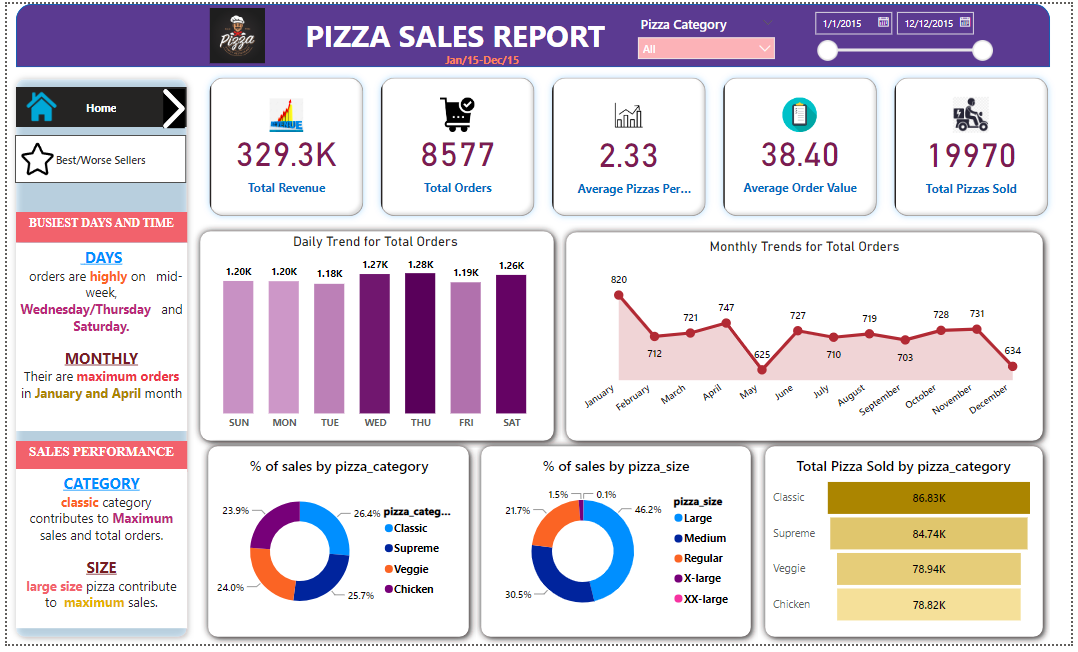

This screenshot's page, from the dashboard's own definition file:
{"tool":"powerbi","page":{"name":"Home","canvas":[1330,800],"ordinal":0},"visuals":[{"type":"cardVisual","fields":{"Data":["Measure Table.Total Revenue","Measure Table.Total Orders","Measure Table.Average Pizzas Per Order","Measure Table.Average Order Value","Measure Table.Total Pizzas Sold"]},"box":[236.2,75,1082.5,205],"z":0},{"type":"shape","box":[11.1,0,1292.6,79],"z":1000},{"type":"textbox","box":[256,9,546,66],"z":2000},{"type":"textbox","box":[530,55.7,127.1,38.6],"z":3000},{"type":"image","box":[242.9,0,91.4,78.6],"z":4000},{"type":"shape","box":[2.5,85.2,230.9,714.8],"z":5000},{"type":"shape","box":[232.5,275,460,280],"z":6000},{"type":"columnChart","title":"Daily Trend for Total Orders ","fields":{"Y":["Measure Table.Total Orders"],"Category":["pizza_sales.Order Day"]},"box":[242,286.4,435.8,255.6],"z":7000},{"type":"shape","box":[690.1,276.5,613.6,279],"z":8000},{"type":"shape","box":[242.5,543.8,343.8,256.2],"z":9000},{"type":"shape","box":[583.8,543.8,355,256.2],"z":10000},{"type":"shape","box":[938.8,543.8,365,256.2],"z":11000},{"type":"areaChart","title":"Monthly Trends for Total Orders","fields":{"Category":["pizza_sales.Month Name"],"Y":["Measure Table.Total Orders"]},"box":[318,438,566,243],"z":12000},{"type":"donutChart","title":"% of sales by pizza_category","fields":{"Category":["pizza_sales.pizza_category"],"Y":["Measure Table.Total Revenue"]},"box":[256.2,565,317.5,215],"z":13000},{"type":"donutChart","title":"% of sales by pizza_size","fields":{"Y":["Measure Table.Total Revenue"],"Category":["pizza_sales.pizza_size"]},"box":[601.2,565,320,215],"z":14000},{"type":"funnel","title":"Total Pizza Sold by pizza_category","fields":{"Category":["pizza_sales.pizza_category"],"Y":["Measure Table.Total Revenue"]},"box":[952.5,565,336.2,215],"z":15000},{"type":"textbox","box":[11.1,260.5,213.6,38.3],"z":16000},{"type":"textbox","box":[11.1,298.8,213.6,234.6],"z":17000},{"type":"textbox","box":[11.1,545.7,213.6,38.3],"z":18000},{"type":"textbox","box":[11.1,581.5,213.6,198.8],"z":19000},{"type":"slicer","fields":{"Values":["pizza_sales.pizza_category"]},"box":[779,8.6,191.4,66.7],"z":20000},{"type":"slicer","fields":{"Values":["pizza_sales.order_date"]},"box":[997.5,0,243.2,85.2],"z":21000},{"type":"pageNavigator","box":[11.2,103.8,213.8,50],"z":22000},{"type":"pageNavigator","box":[10,164.3,214.3,60],"z":23000},{"type":"image","box":[11.4,95.7,64.3,64.3],"z":24000},{"type":"image","box":[181,101,55,59],"z":25000},{"type":"image","box":[10,164.3,55.7,60],"z":26000}]}

Visuals, with their boxes in screenshot pixels (x1, y1, x2, y2), scaled from the page's 1330x800 canvas onto the 1078x652 screenshot:
cardVisual - Measure Table.Total Revenue x Measure Table.Total Orders: 191,61,1069,228
shape: 9,0,1057,64
textbox: 207,7,650,61
textbox: 430,45,533,77
image: 197,0,271,64
shape: 2,69,189,651
shape: 188,224,561,452
"Daily Trend for Total Orders " columnChart: 196,233,549,442
shape: 559,225,1057,453
shape: 197,443,475,651
shape: 473,443,761,651
shape: 761,443,1057,651
"Monthly Trends for Total Orders" areaChart: 258,357,717,555
"% of sales by pizza_category" donutChart: 208,460,465,636
"% of sales by pizza_size" donutChart: 487,460,747,636
"Total Pizza Sold by pizza_category" funnel: 772,460,1045,636
textbox: 9,212,182,244
textbox: 9,244,182,435
textbox: 9,445,182,476
textbox: 9,474,182,636
slicer - pizza_sales.pizza_category: 631,7,787,61
slicer - pizza_sales.order_date: 808,0,1006,69
pageNavigator: 9,85,182,125
pageNavigator: 8,134,182,183
image: 9,78,61,130
image: 147,82,191,130
image: 8,134,53,183
